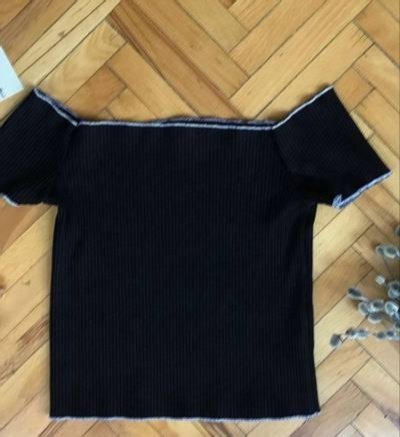Blouse: (2, 47, 378, 426)
